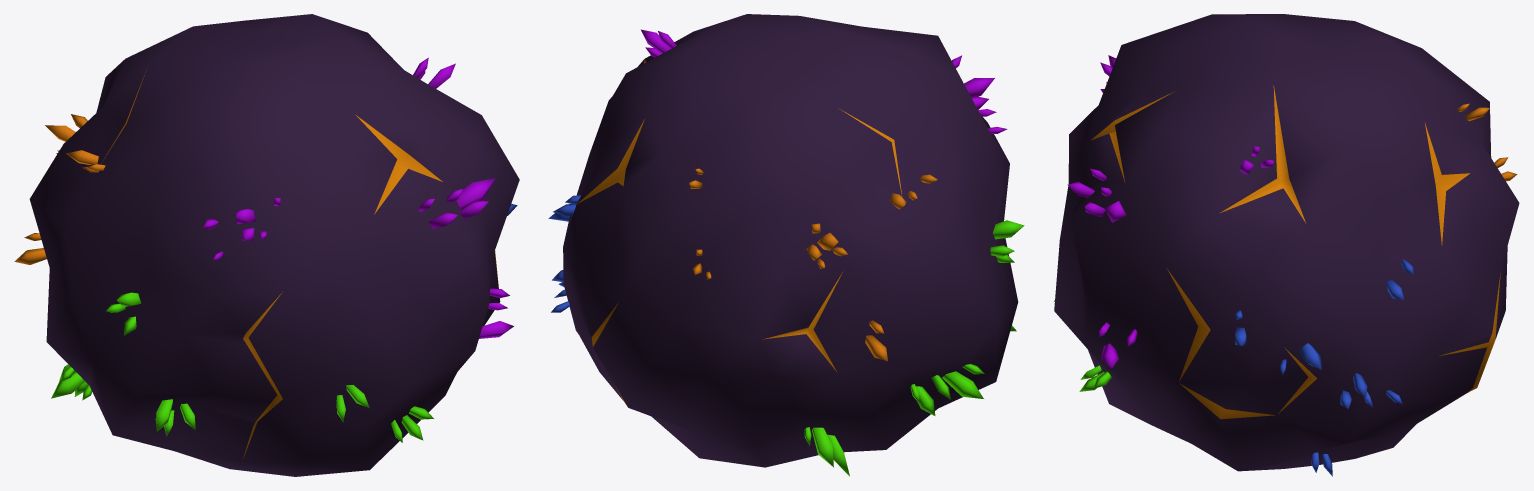
The model's file is crystal_planet_model.fbx.
3 views of the same model, side by side, from view 1: azimuth 30°, elevation 25°; view 2: azimuth 150°, elevation 25°; view 3: azimuth 270°, elevation 25° (orthographic).
Parts seen in each view (by area): view 1: Icosphere, Cube_006; view 2: Icosphere, Cube_006; view 3: Icosphere, Cube_006.
Boxes of the visible parts, bbox=[...] form: Icosphere: bbox=[29, 14, 519, 476]; Cube_006: bbox=[14, 57, 517, 442]; Icosphere: bbox=[563, 14, 1018, 467]; Cube_006: bbox=[548, 29, 1024, 476]; Icosphere: bbox=[1054, 14, 1519, 471]; Cube_006: bbox=[1054, 55, 1517, 476].
Size of the model in its own units: 2.22 by 2.01 by 2.08.
